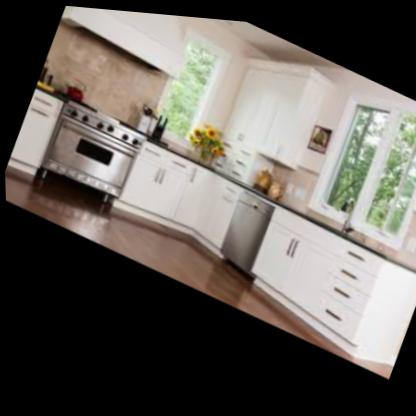Cabinet: (235, 197, 416, 369), (110, 133, 248, 256)
